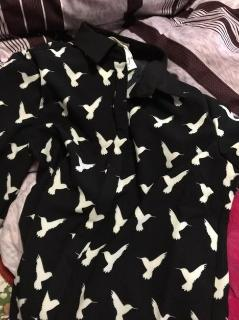long sleeve top: (0, 21, 239, 319)
